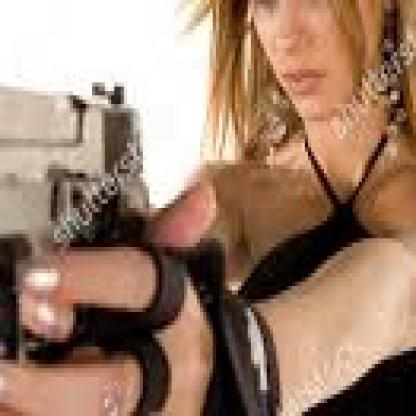gun: (0, 39, 162, 412)
